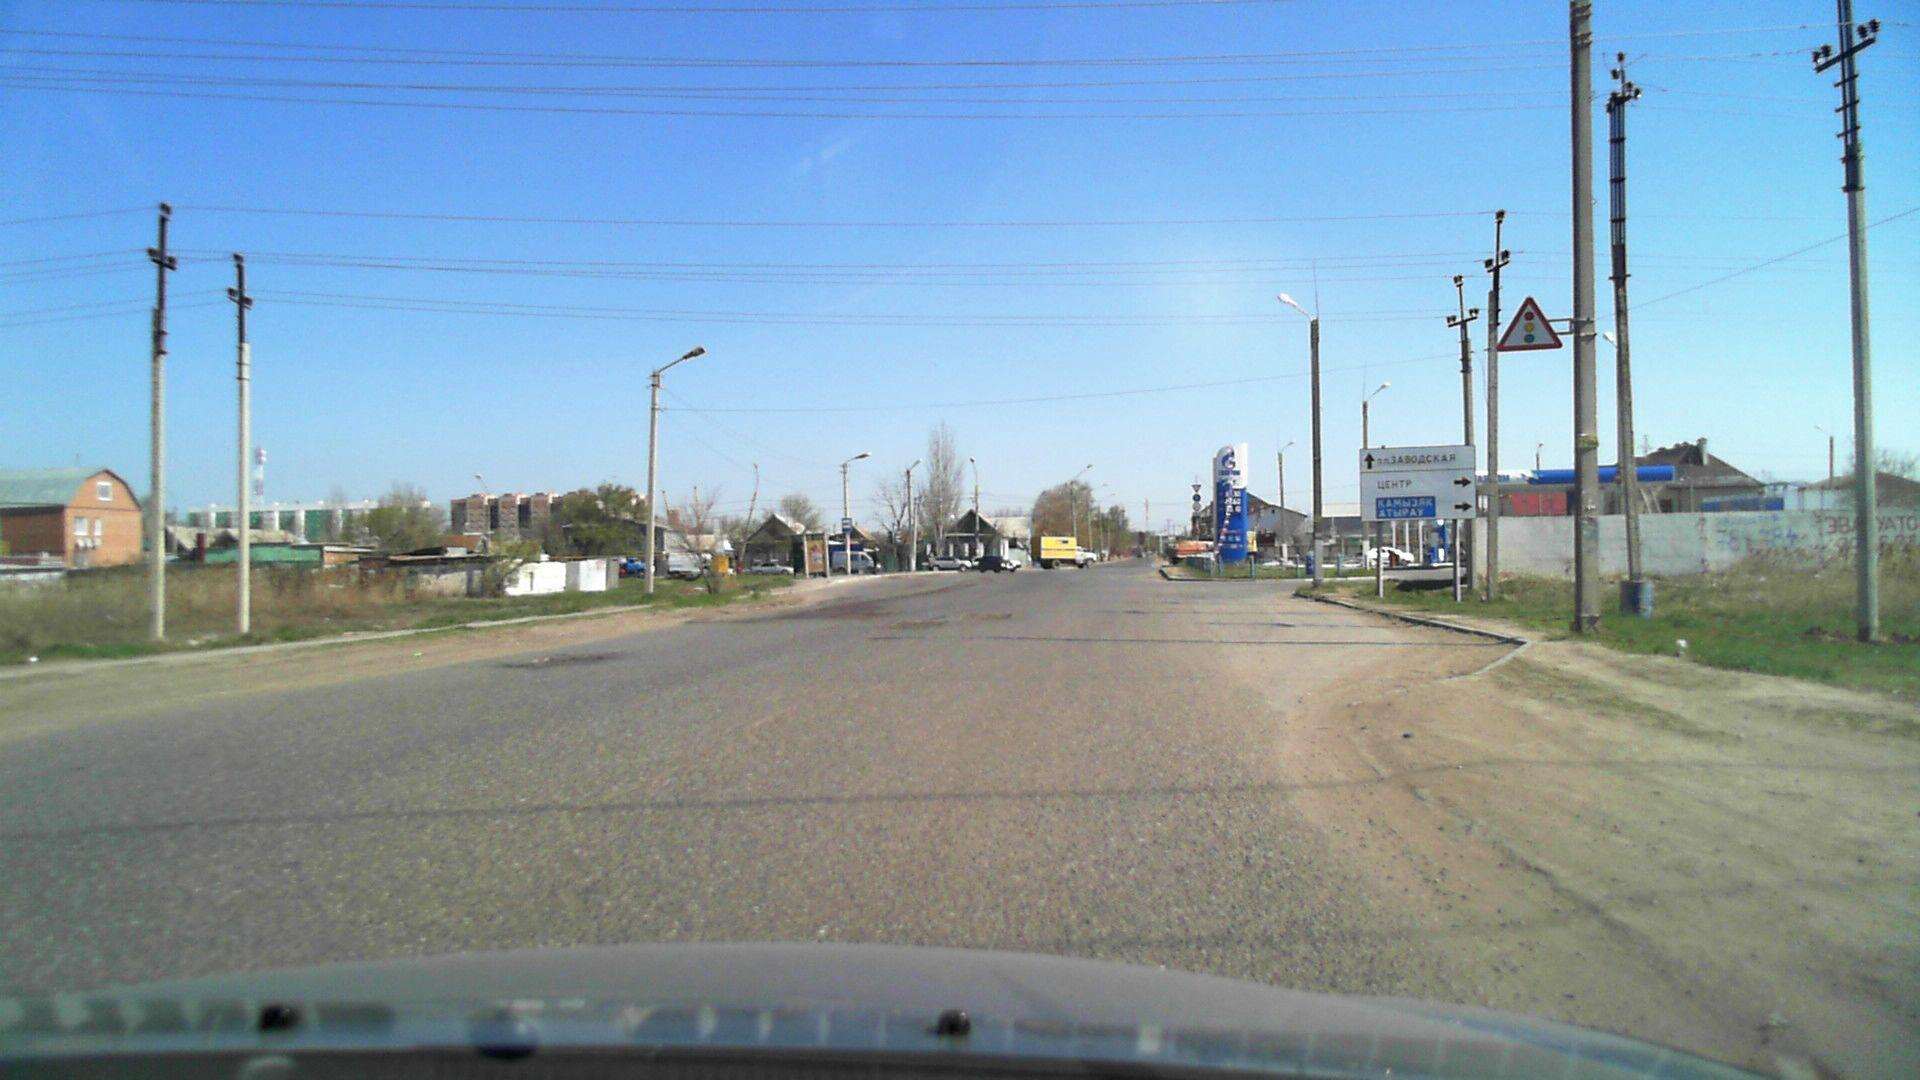1_8: (1494, 295, 1563, 351)
2_4: (1192, 483, 1203, 493)
3_11: (1192, 502, 1201, 510)
4_1_4: (1192, 493, 1201, 501)
5_16: (840, 516, 852, 534)
6_10_1: (1358, 444, 1481, 524)
8_1_4: (1192, 512, 1201, 517)
